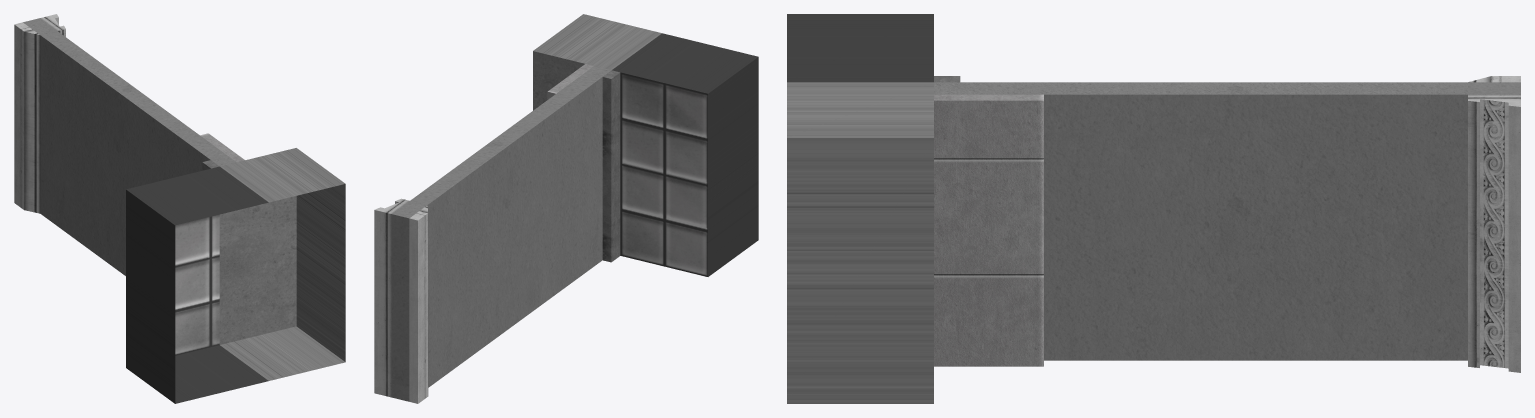
File: A_ground_wall_ 2m.fbx
The picture shows the model from 3 angles, left to right: view 1: azimuth 30°, elevation 25°; view 2: azimuth 150°, elevation 25°; view 3: azimuth 270°, elevation 25°; orthographic projection. The views are drawn at different scales.
Visible parts, largest first — view 1: A_ground_wall__2m; view 2: A_ground_wall__2m; view 3: A_ground_wall__2m.
Part boxes in pixels (x1,y1,x2,y2): A_ground_wall__2m: (14, 14, 345, 403); A_ground_wall__2m: (374, 14, 758, 403); A_ground_wall__2m: (787, 14, 1520, 403).
Size of the model in its own units: 2 by 2 by 5.
